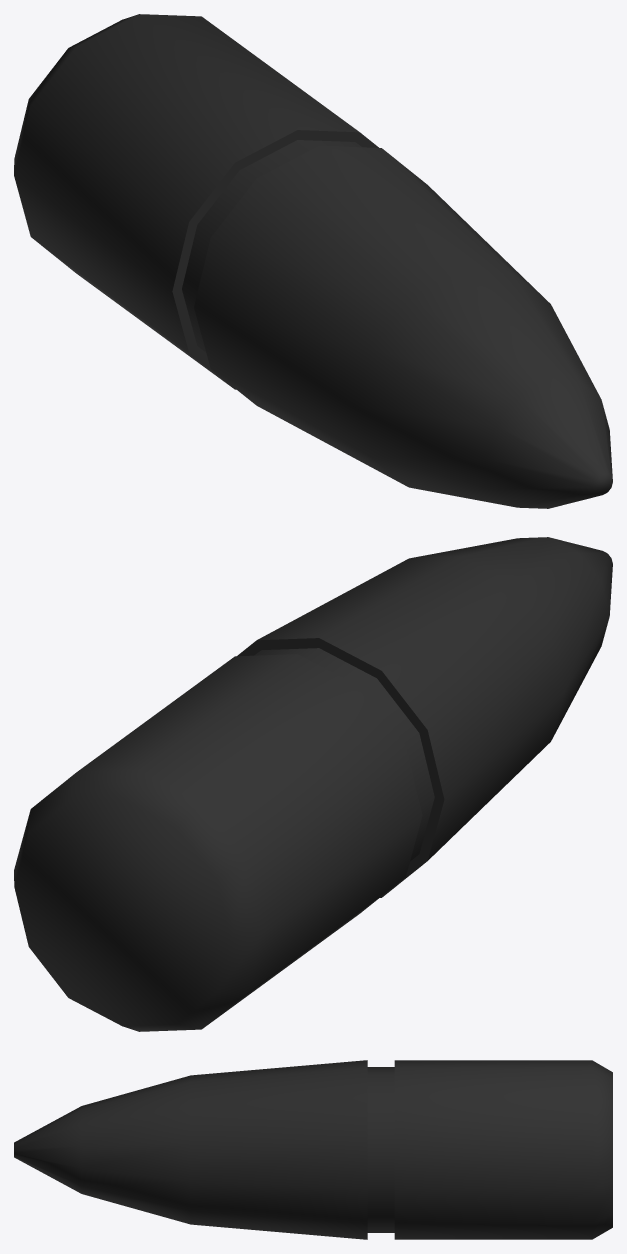
File: Bullet.fbx
3 renders of one model, top to bottom at view 1: azimuth 30°, elevation 25°; view 2: azimuth 150°, elevation 25°; view 3: azimuth 270°, elevation 25°, orthographic. The views are drawn at different scales.
Parts seen in each view (by area): view 1: Bullet; view 2: Bullet; view 3: Bullet.
Part boxes in pixels (x1,y1,x2,y2): Bullet: [14, 14, 612, 508]; Bullet: [14, 537, 612, 1031]; Bullet: [14, 1060, 612, 1239].
Size of the model in its own units: 20 by 20 by 66.4.
Materials: 1 (1 with a texture image).
